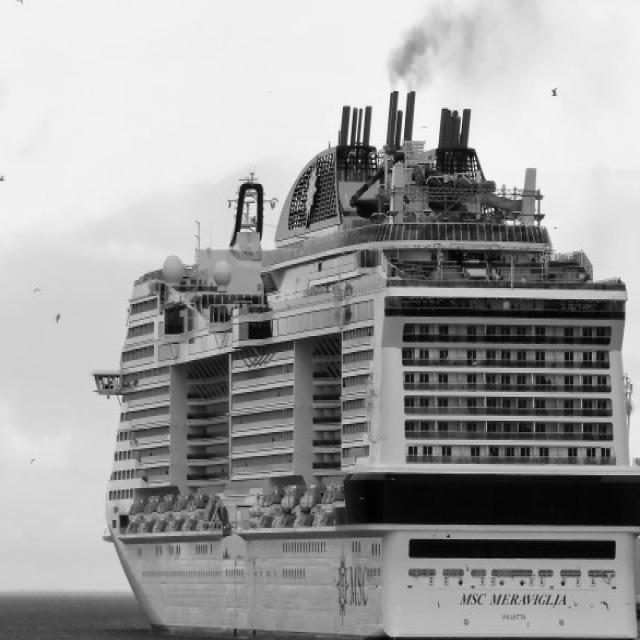cruises: (88, 87, 640, 640)
